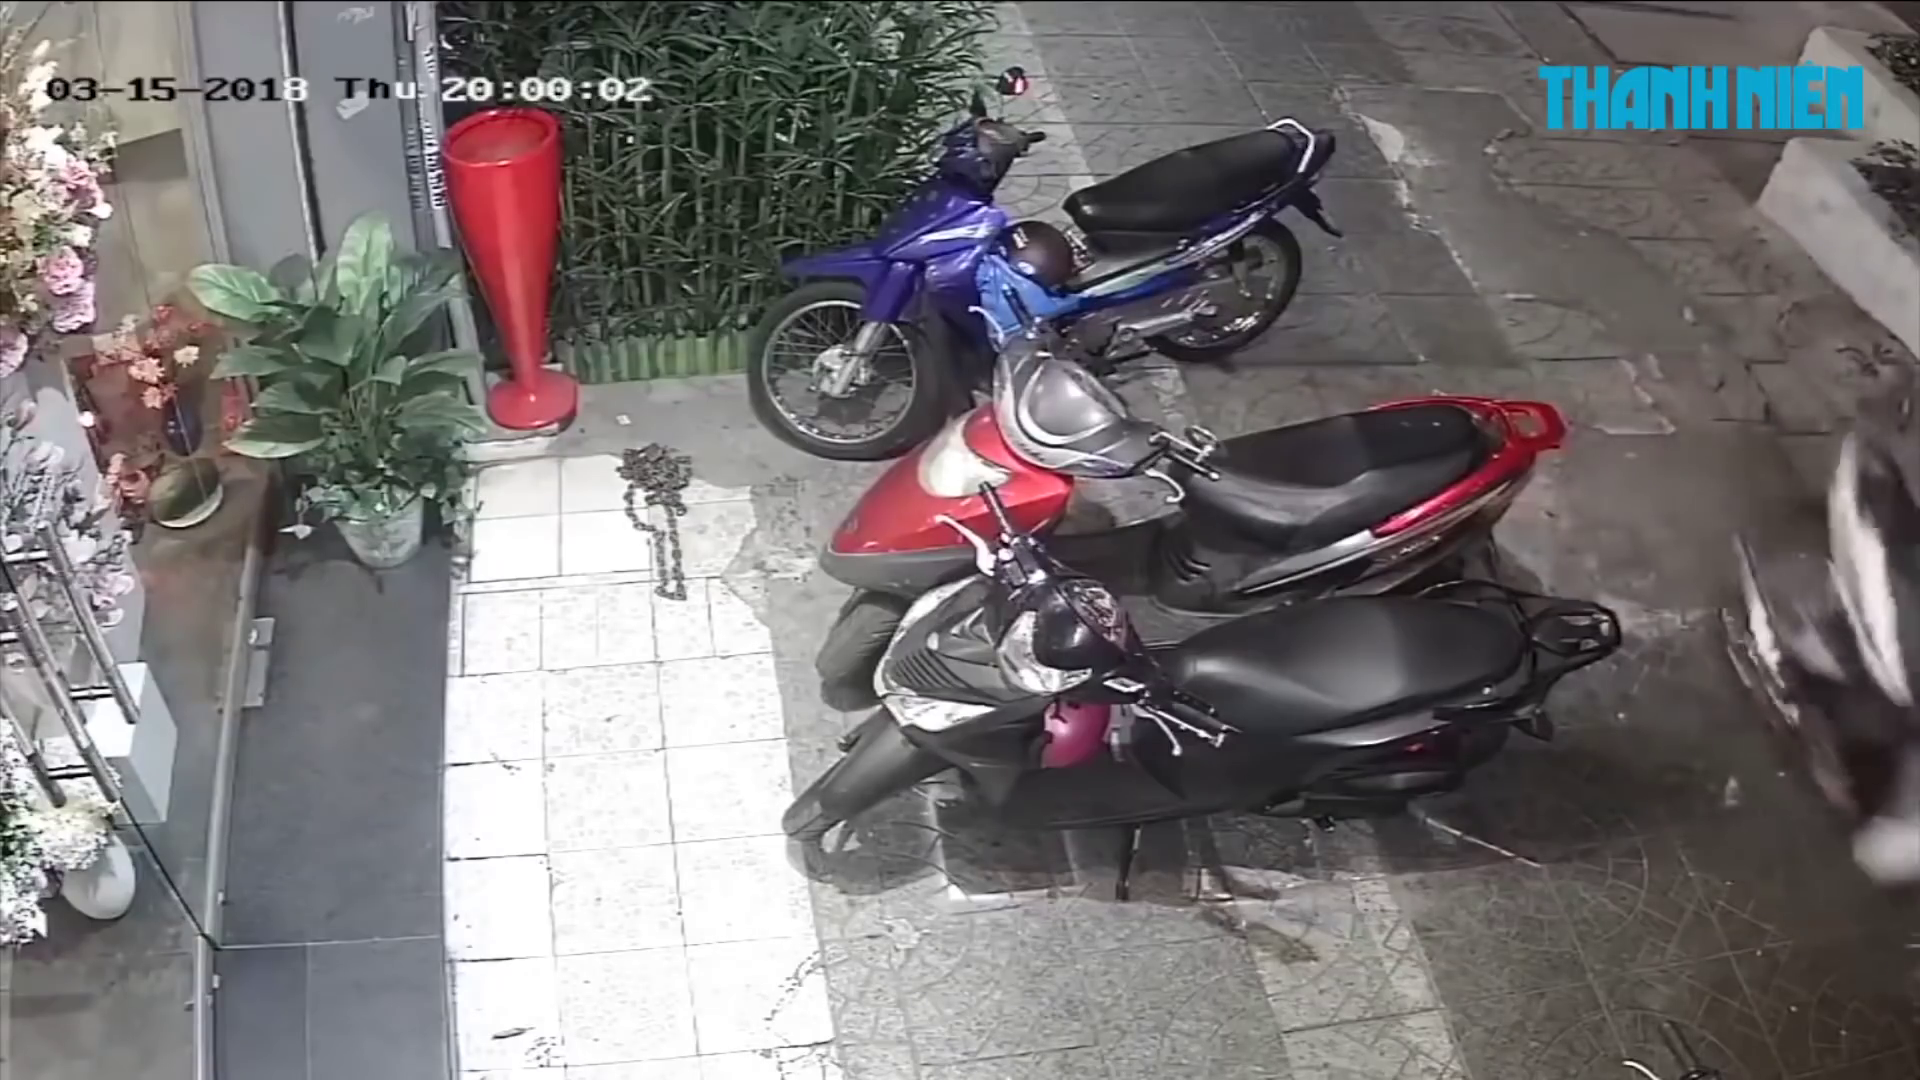Motorcycle: (781, 454, 1623, 860), (812, 322, 1569, 698), (746, 67, 1345, 463)
